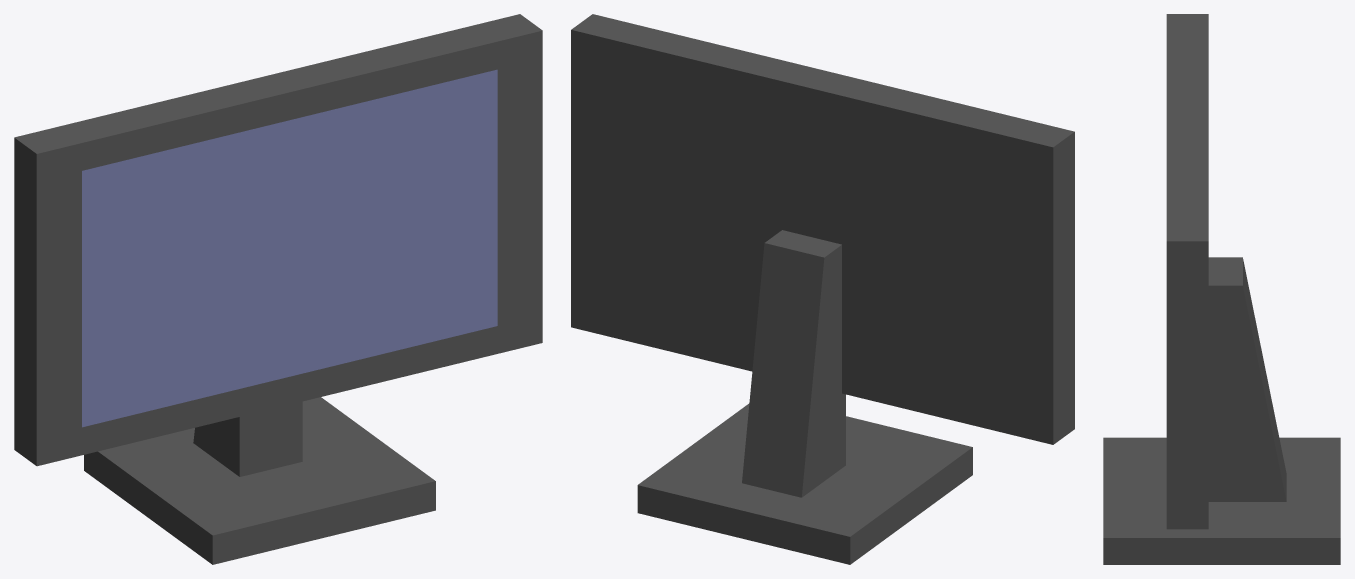
Rendered from NEWscreen.fbx.
3 views of the same model, side by side, from view 1: azimuth 30°, elevation 25°; view 2: azimuth 150°, elevation 25°; view 3: azimuth 270°, elevation 25° (orthographic). The views are drawn at different scales.
Parts seen in each view (by area): view 1: Cube.005; view 2: Cube.005; view 3: Cube.005.
Boxes of the visible parts, x1,y1,x2,y2 form: Cube.005: [14, 14, 542, 564]; Cube.005: [571, 14, 1074, 564]; Cube.005: [1103, 14, 1340, 564].
Bounding box in the file's own units: 239 × 190 × 105.
